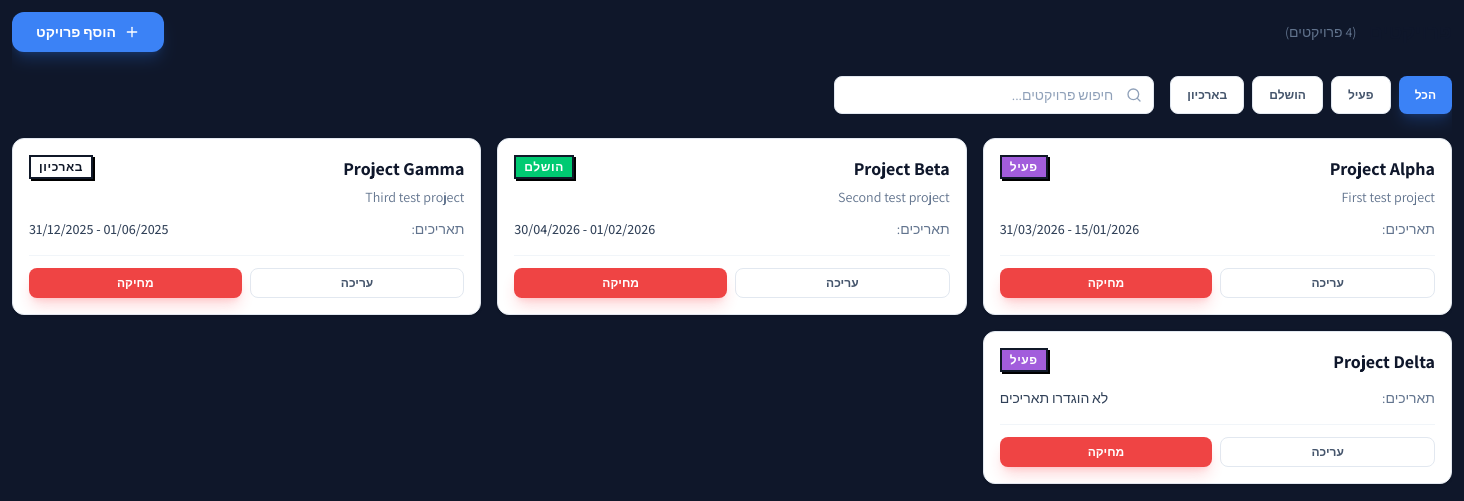
it: ProjectsList › status filter › filters to active projects when active button clicked
What coordinates should you click on to do the following:
click the button "פעיל"
I would click on:
 (1361, 95)
Its box is 1331,76 -> 1391,114.
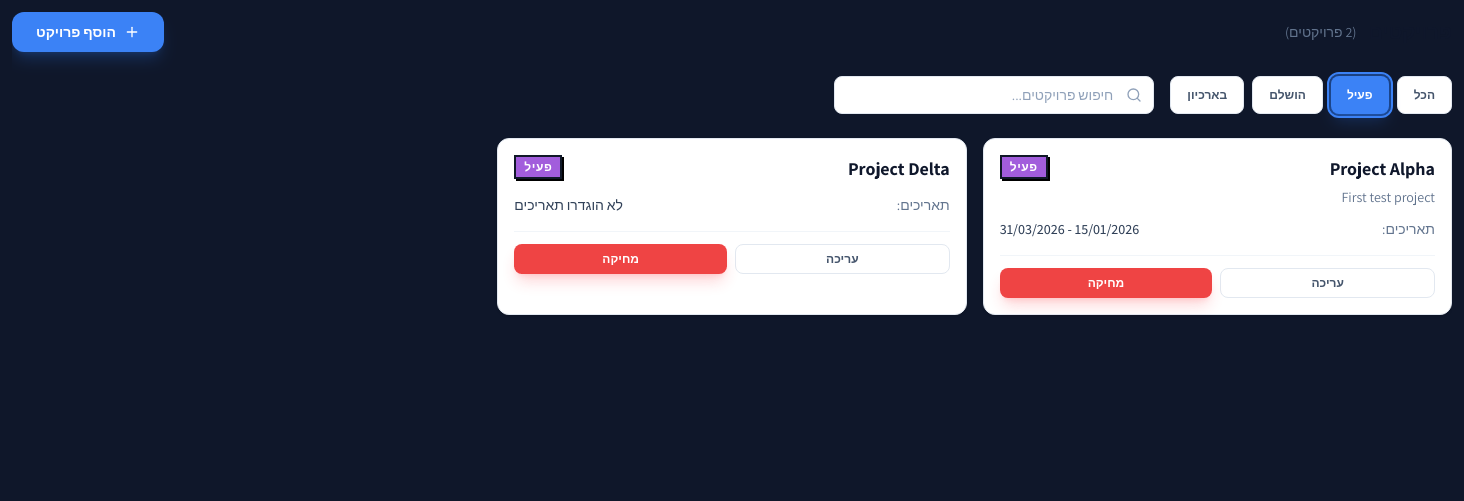
Check: the heading "Project Alpha" is shown, box 1330,157 -> 1435,180
Check: the heading "Project Beta" is gone
Check: the heading "Project Gamma" is gone
